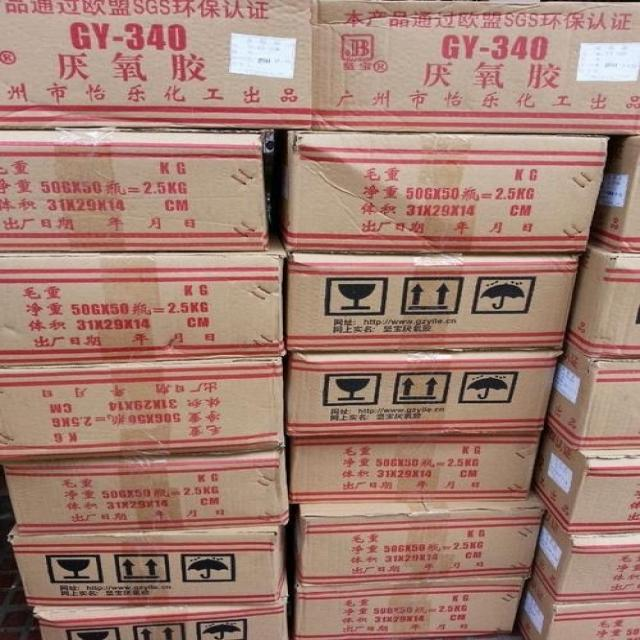box: (314, 0, 640, 134), (0, 0, 315, 129), (284, 130, 612, 251), (0, 239, 291, 367), (0, 130, 269, 251), (0, 356, 289, 463), (288, 253, 580, 351), (0, 449, 293, 535), (285, 349, 566, 436), (297, 489, 547, 585), (6, 525, 287, 609), (288, 432, 541, 503), (32, 582, 288, 640), (293, 577, 527, 640), (535, 427, 640, 533), (532, 507, 640, 605), (545, 339, 640, 450), (566, 247, 640, 360), (516, 573, 640, 640), (589, 136, 640, 254)
